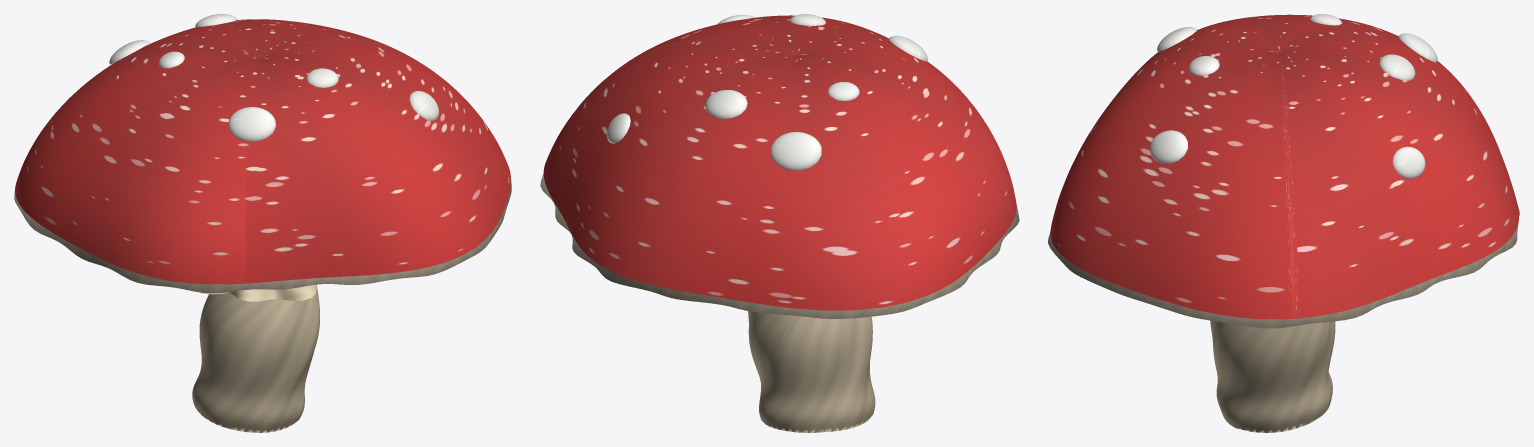
File: cartoon_mushroom_highpoly_welded.obj
3 views of the same model, side by side, from view 1: azimuth 30°, elevation 25°; view 2: azimuth 150°, elevation 25°; view 3: azimuth 270°, elevation 25° (orthographic). The views are drawn at different scales.
Visible parts, largest first — view 1: cap_outer, stem, cap_bridge, spot_3, ring, spot_5, spot_0; view 2: cap_outer, stem, cap_bridge, spot_4, spot_2, spot_6, spot_1, spot_3; view 3: cap_outer, stem, cap_bridge, spot_5, spot_6, spot_2, spot_4, spot_0, spot_3.
Boxes of the visible parts, x1=… form: cap_outer: x1=15, y1=19, x2=510, y2=284; stem: x1=192, y1=285, x2=319, y2=432; cap_bridge: x1=14, y1=180, x2=511, y2=293; spot_3: x1=228, y1=107, x2=275, y2=141; ring: x1=199, y1=284, x2=316, y2=301; spot_5: x1=409, y1=91, x2=438, y2=120; spot_0: x1=306, y1=68, x2=338, y2=87; cap_outer: x1=543, y1=15, x2=1016, y2=310; stem: x1=748, y1=311, x2=875, y2=432; cap_bridge: x1=540, y1=173, x2=1019, y2=318; spot_4: x1=770, y1=132, x2=821, y2=170; spot_2: x1=705, y1=90, x2=747, y2=118; spot_6: x1=607, y1=113, x2=630, y2=143; spot_1: x1=827, y1=82, x2=859, y2=100; spot_3: x1=889, y1=35, x2=927, y2=61; cap_outer: x1=1050, y1=14, x2=1518, y2=319; stem: x1=1210, y1=320, x2=1335, y2=432; cap_bridge: x1=1048, y1=206, x2=1519, y2=328; spot_5: x1=1150, y1=130, x2=1187, y2=163; spot_6: x1=1392, y1=146, x2=1425, y2=178; spot_2: x1=1379, y1=54, x2=1415, y2=80; spot_4: x1=1398, y1=33, x2=1437, y2=62; spot_0: x1=1188, y1=56, x2=1219, y2=75; spot_3: x1=1157, y1=27, x2=1196, y2=51.
Bounding box in the file's own units: 5.8 × 4.69 × 5.36.
5 materials, 5 textured.
